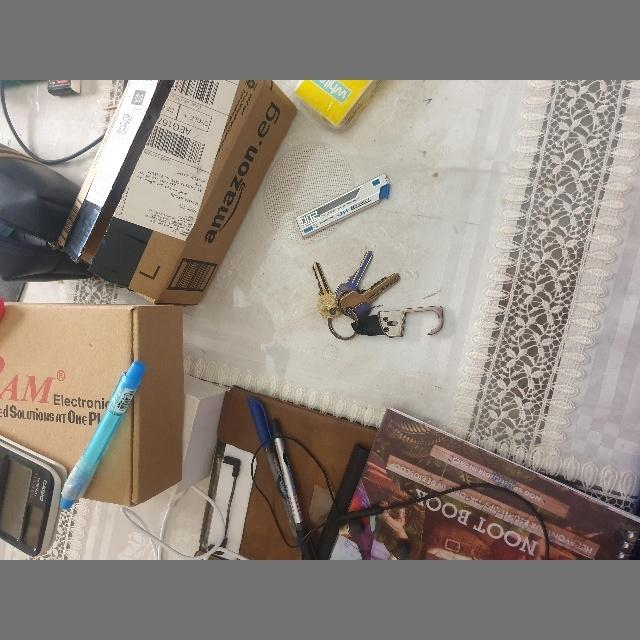Keys: (312, 251, 442, 341)
